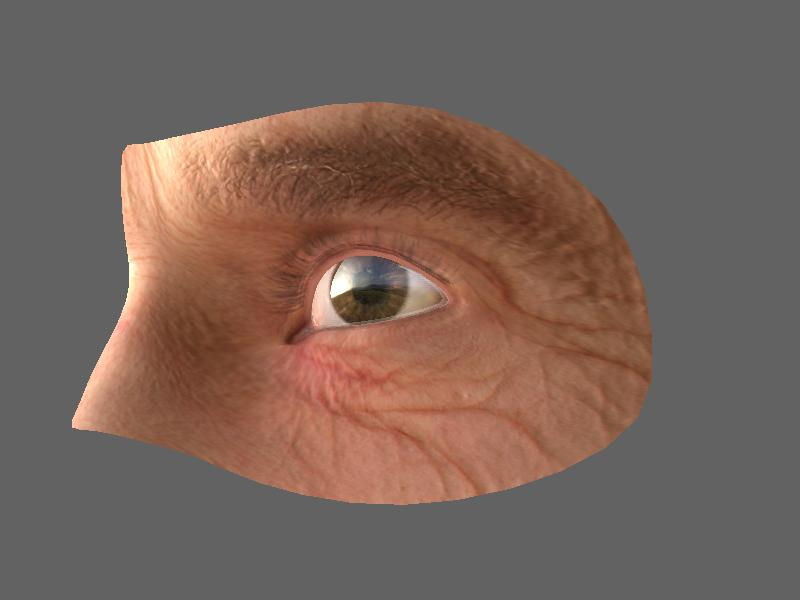iris: (326, 266, 412, 324)
